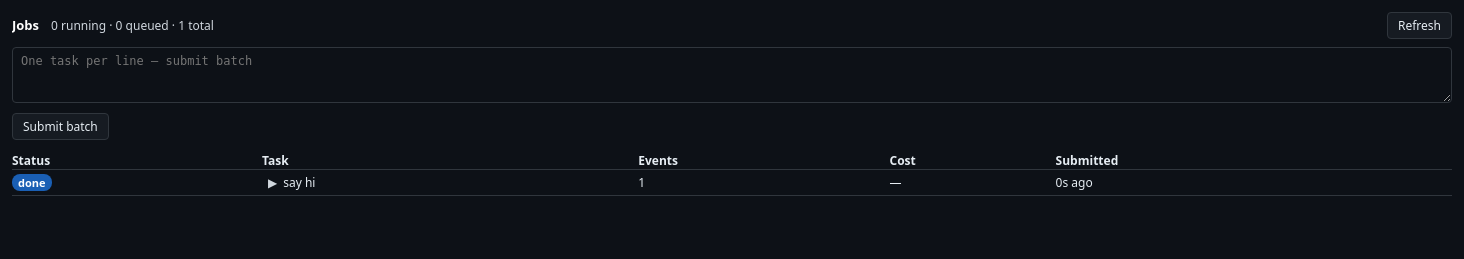
it: JobsPanel › collapses a row and stops re-fetching detail when closed
Click the button with test id "jobs-toggle-j-collapse".
click(292, 182)  # box [262, 170, 322, 195]
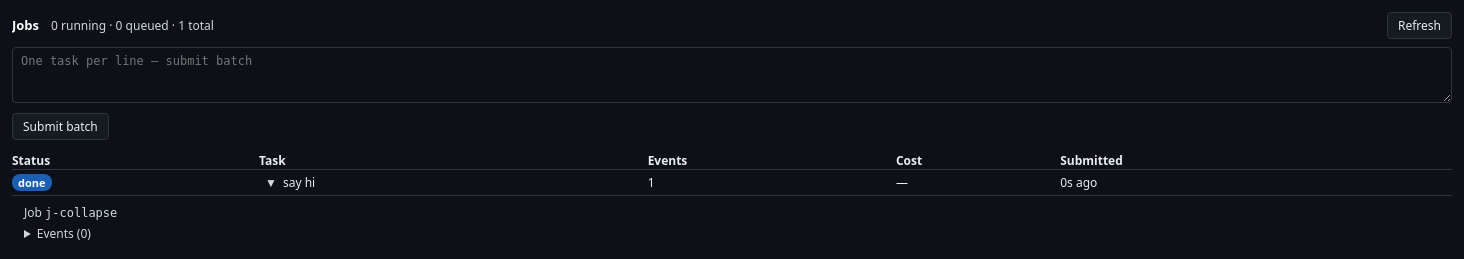
Now the element with test id "jobs-detail-j-collapse" is shown, box [24, 204, 117, 242]
Click the button with test id "jobs-toggle-j-collapse".
click(290, 182)  # box [259, 170, 321, 195]
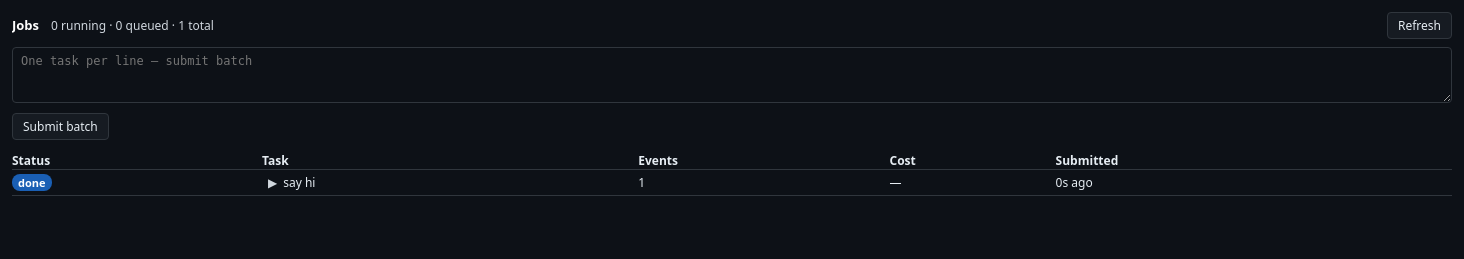
Now the element with test id "jobs-detail-j-collapse" is gone
